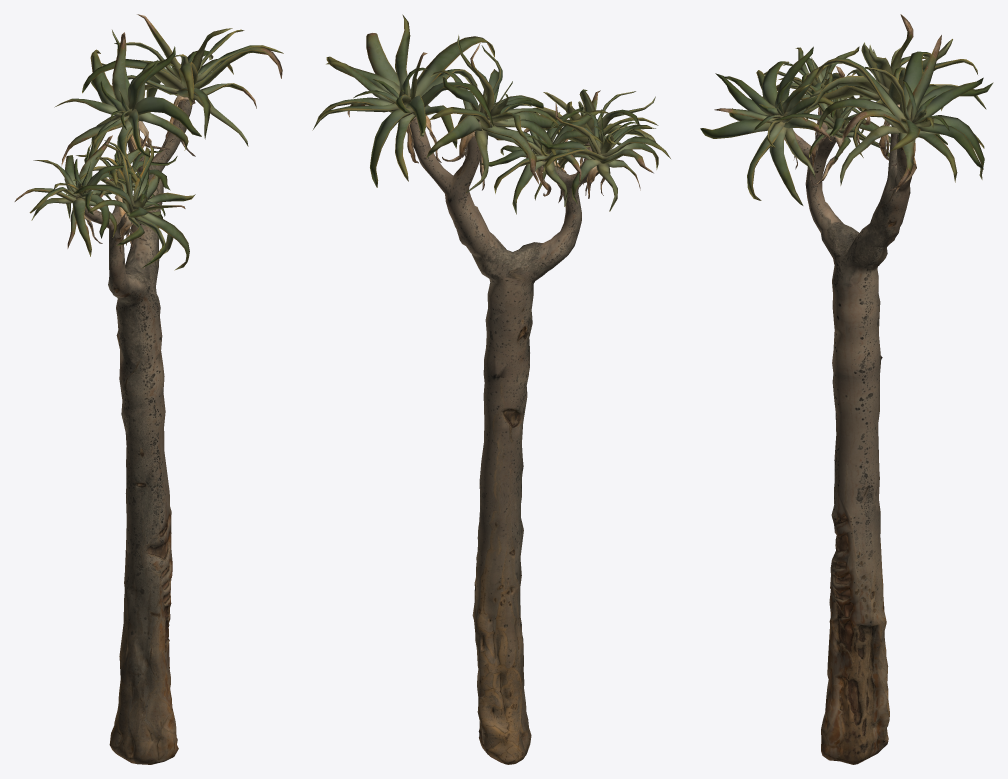
Rendered from tree_desert.glb.
3 renders of one model, left to right at view 1: azimuth 30°, elevation 25°; view 2: azimuth 150°, elevation 25°; view 3: azimuth 270°, elevation 25°, orthographic. The views are drawn at different scales.
Visible parts, largest first — view 1: tree_desert; view 2: tree_desert; view 3: tree_desert.
Boxes of the visible parts, x1=… form: tree_desert: x1=14, y1=14, x2=283, y2=764; tree_desert: x1=312, y1=14, x2=670, y2=764; tree_desert: x1=700, y1=14, x2=993, y2=764.
Bounding box in the file's own units: 1.18 × 2.71 × 0.9702.
2 materials, 2 textured.
